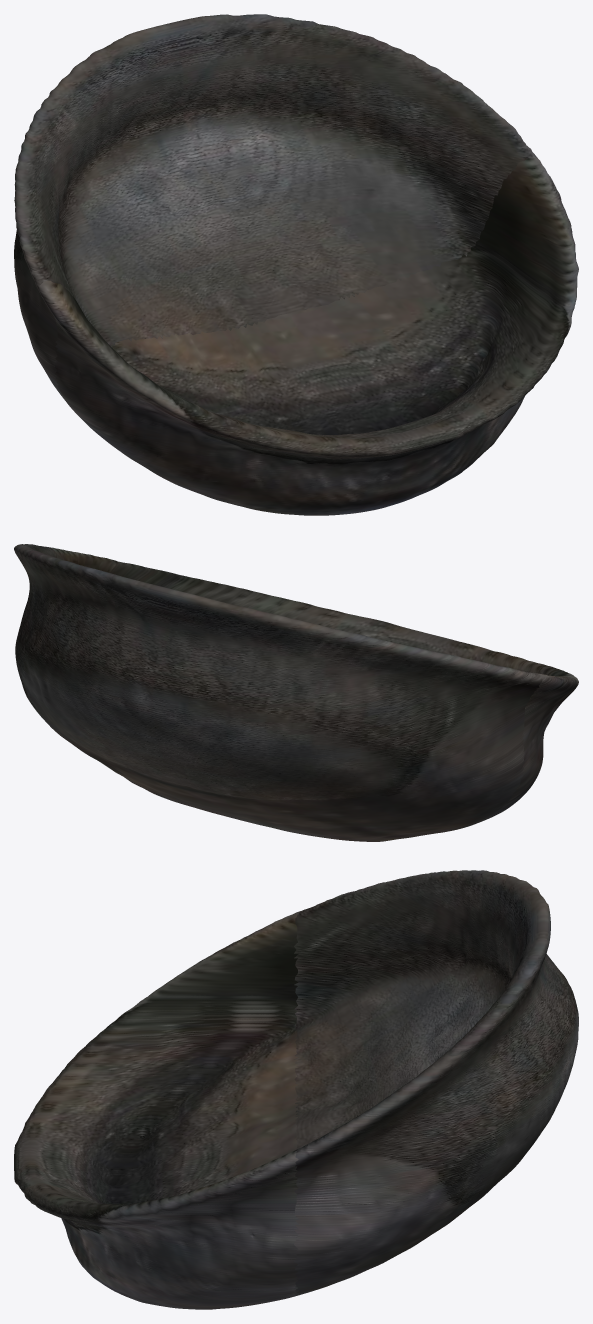
The model's file is kfl-2239.glb.
The picture shows the model from 3 angles, top to bottom: view 1: azimuth 30°, elevation 25°; view 2: azimuth 150°, elevation 25°; view 3: azimuth 270°, elevation 25°; orthographic projection. The views are drawn at different scales.
Visible parts, largest first — view 1: geometry_0; view 2: geometry_0; view 3: geometry_0.
Boxes of the visible parts, x1=… form: geometry_0: x1=14, y1=14, x2=578, y2=515; geometry_0: x1=14, y1=544, x2=578, y2=841; geometry_0: x1=14, y1=870, x2=578, y2=1309.
Bounding box in the file's own units: 0.988 × 0.6413 × 0.9319.
Materials: 1 (1 with a texture image).
